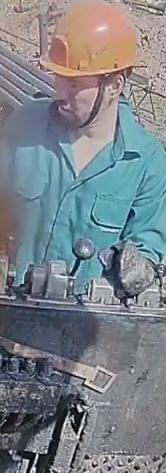gloves: (98, 241, 163, 300)
helmet: (37, 3, 140, 87)
vest: (9, 96, 165, 296)
